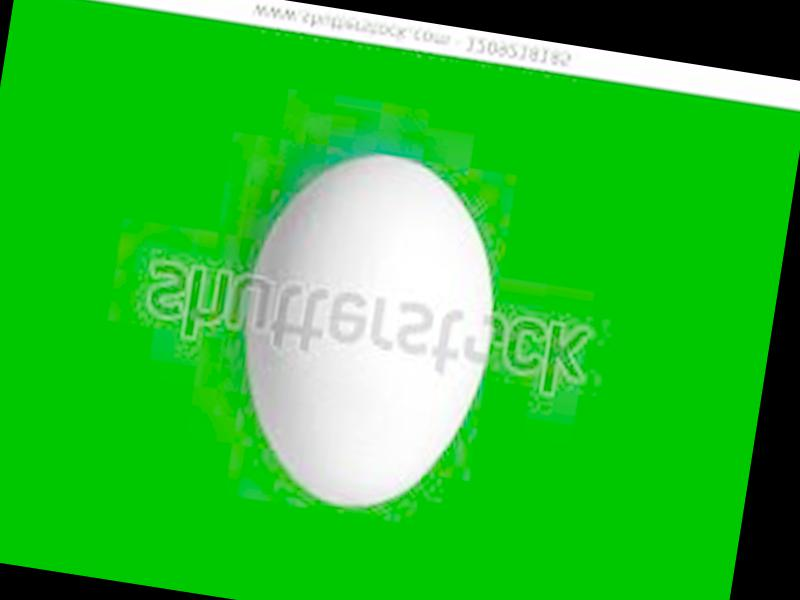Eggs: (218, 140, 513, 523)
